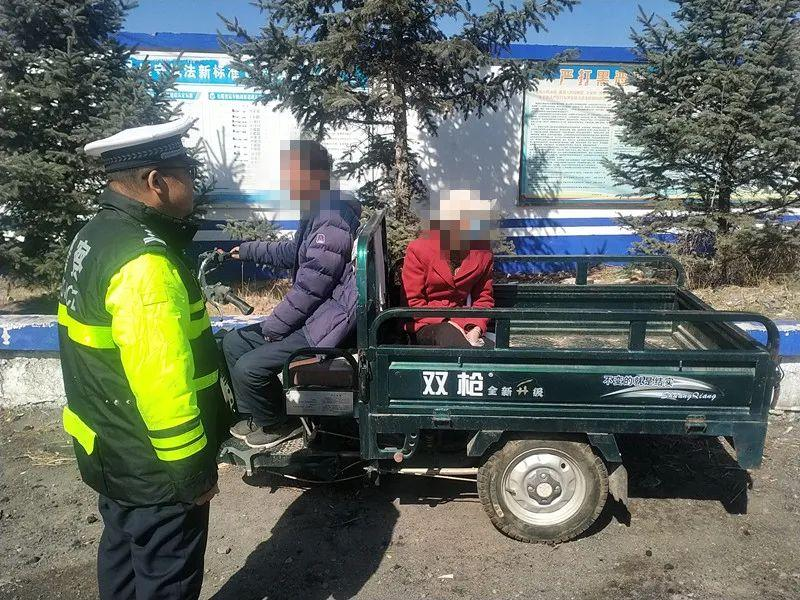driver: (230, 137, 367, 470)
overloading: (226, 139, 791, 540)
passenger: (396, 185, 516, 363)
